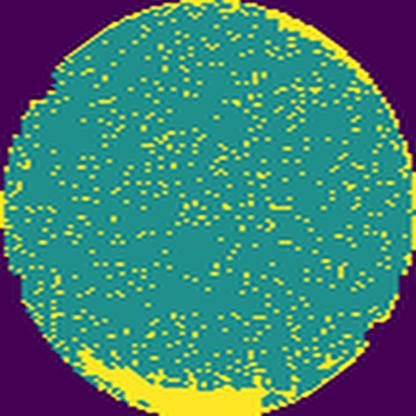Edge-Loc: (73, 341, 280, 416), (248, 0, 386, 98)
